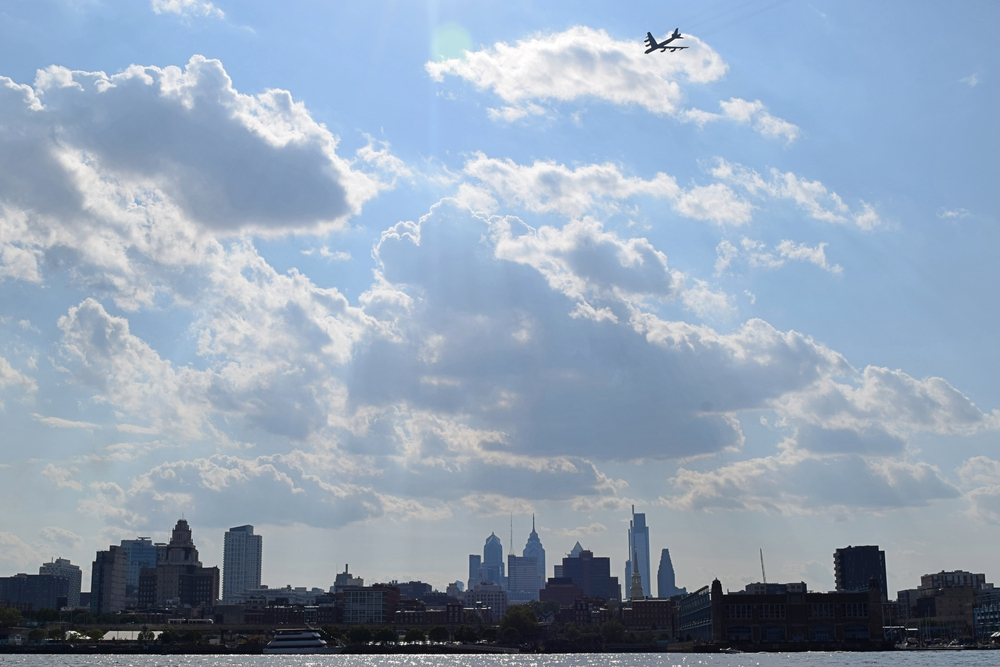B52: (643, 27, 690, 55)
